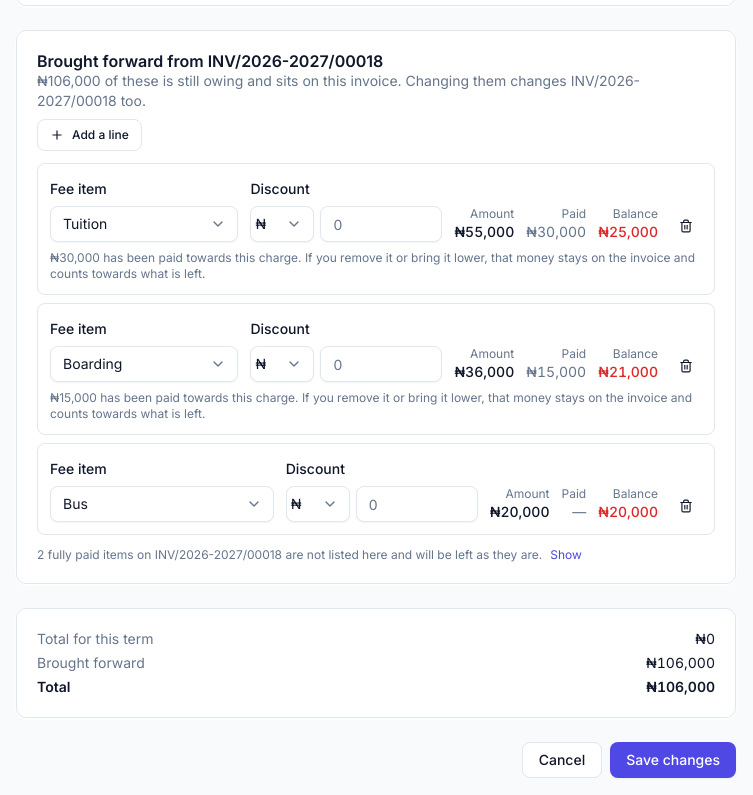
it: InvoiceEditPage settled items on an earlier invoice › brings the settled items into view on request
The image size is (753, 795).
(page scrolled)
Expected: the heading "Brought forward from INV/2026-2027/00018" is shown, [37,51,383,71]
Click the button "Show" at (566, 555), box [550,547,582,563]
(page scrolled)
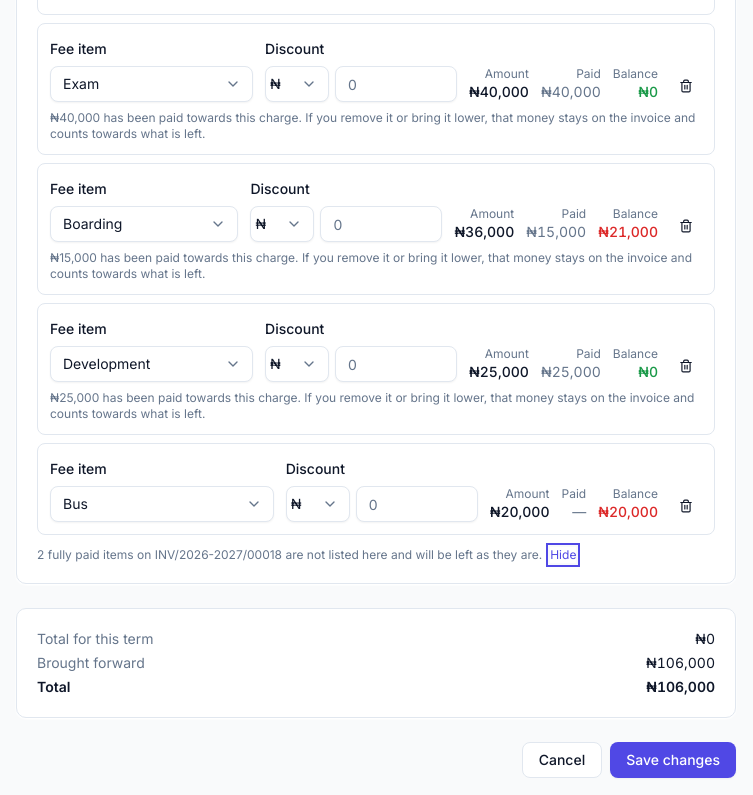
Now the number of buttons "Remove line" is 5
Now the button "Hide" is shown, box [550,547,576,563]
